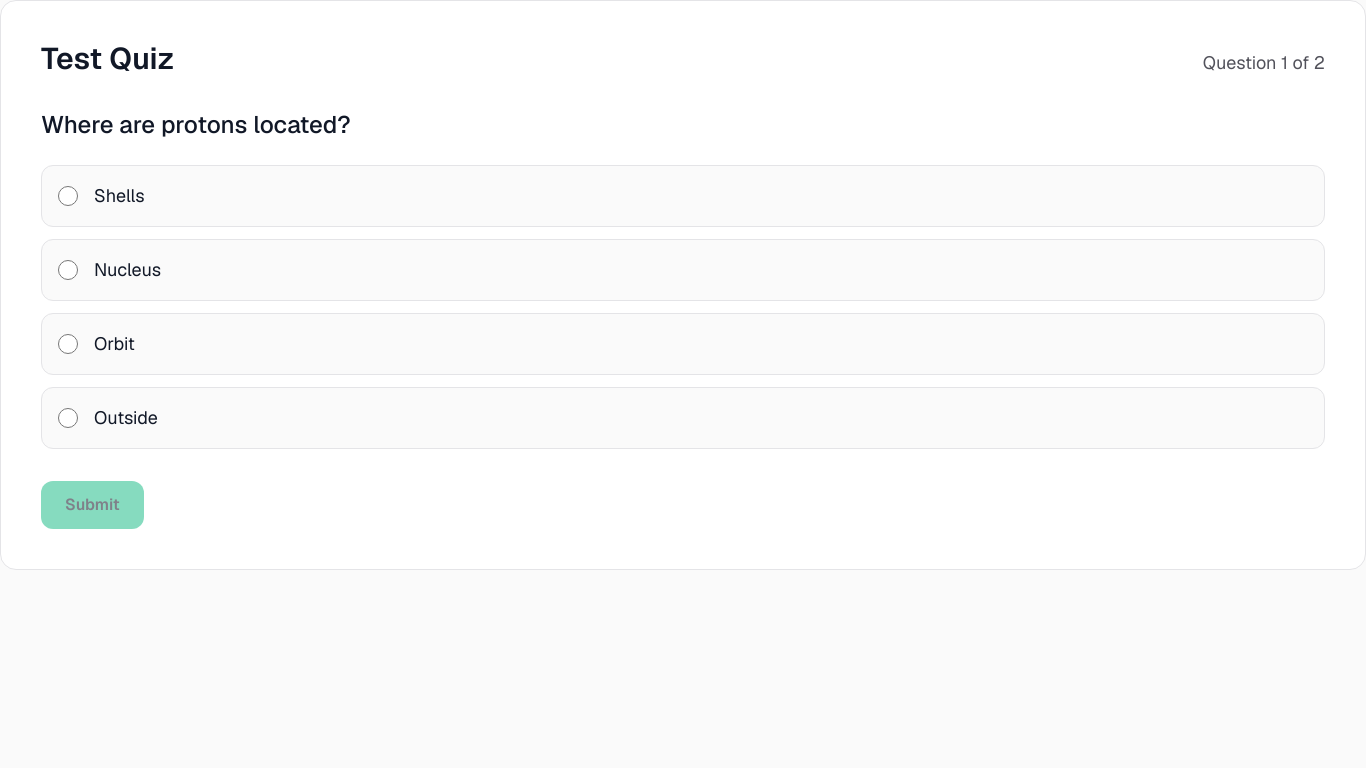
it: QuizShell › shows a retry action when saving the final result fails
Click the radio button labelled "Nucleus" at (68, 270), box [58, 260, 78, 280]
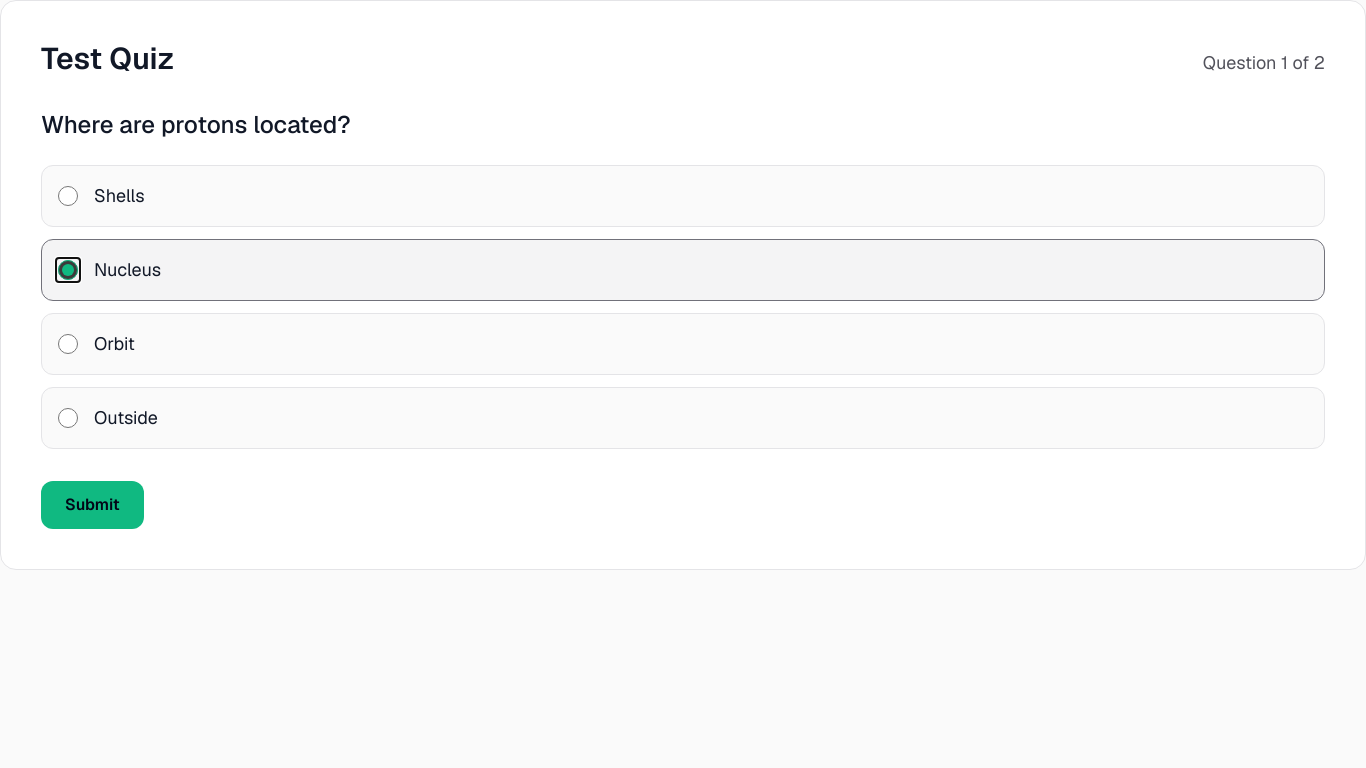
Click the button "Submit" at (92, 505), box [41, 481, 144, 529]
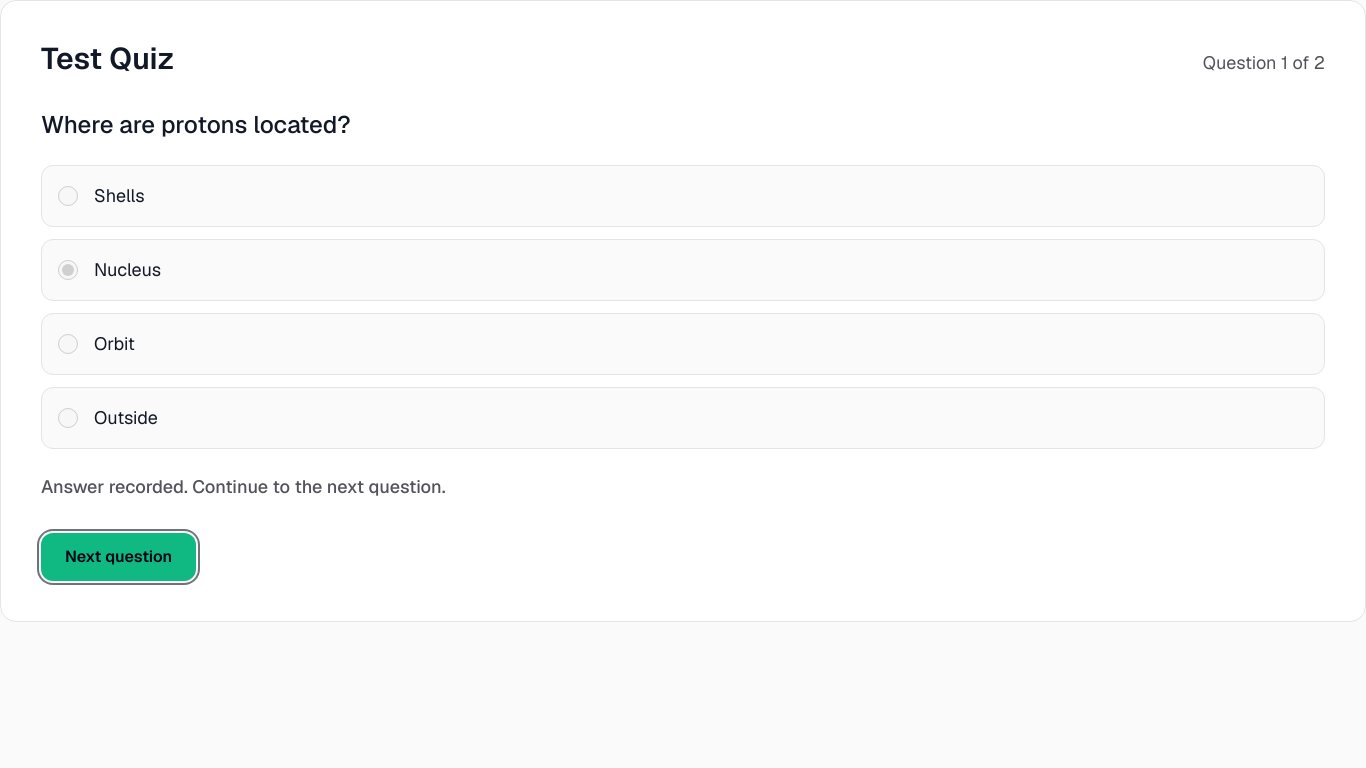
Click the button "Next question" at (119, 557), box [41, 533, 196, 581]
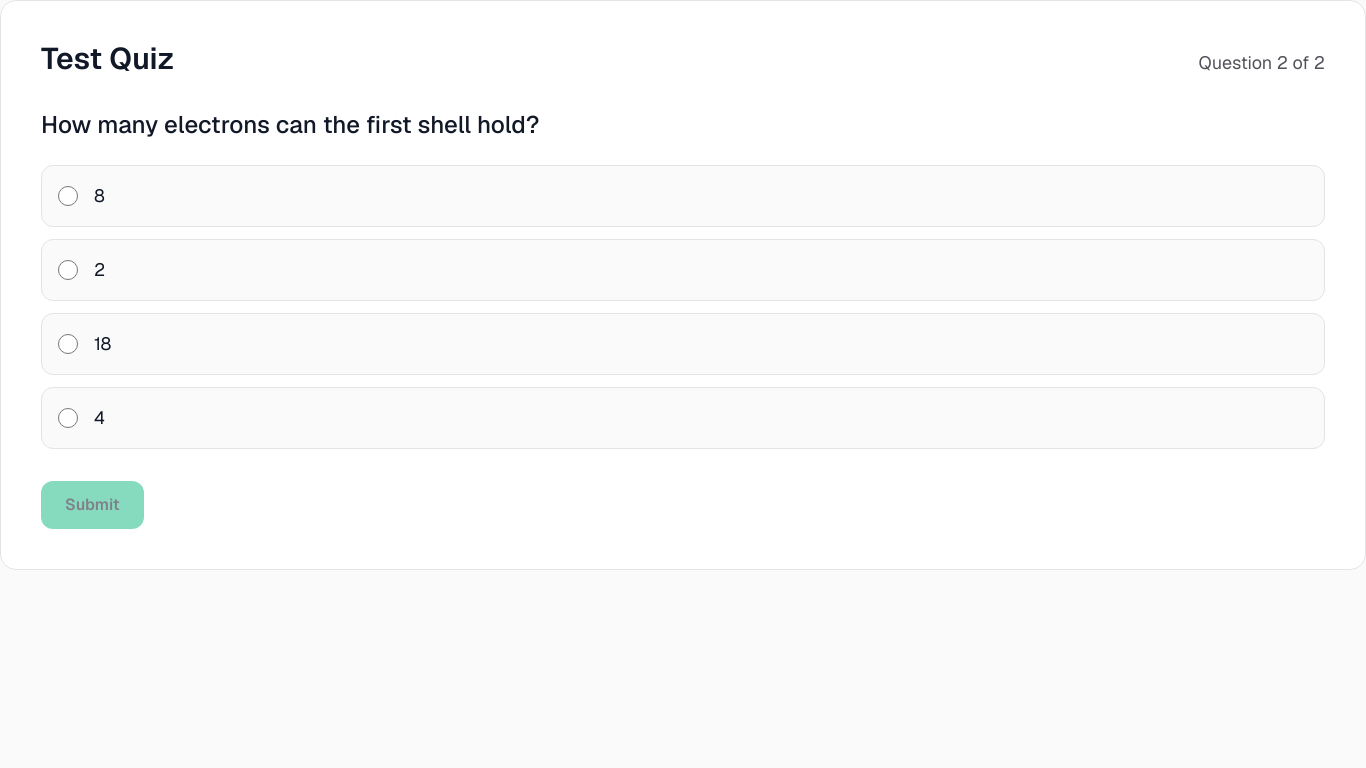
Click the radio button labelled "2" at (68, 270), box [58, 260, 78, 280]
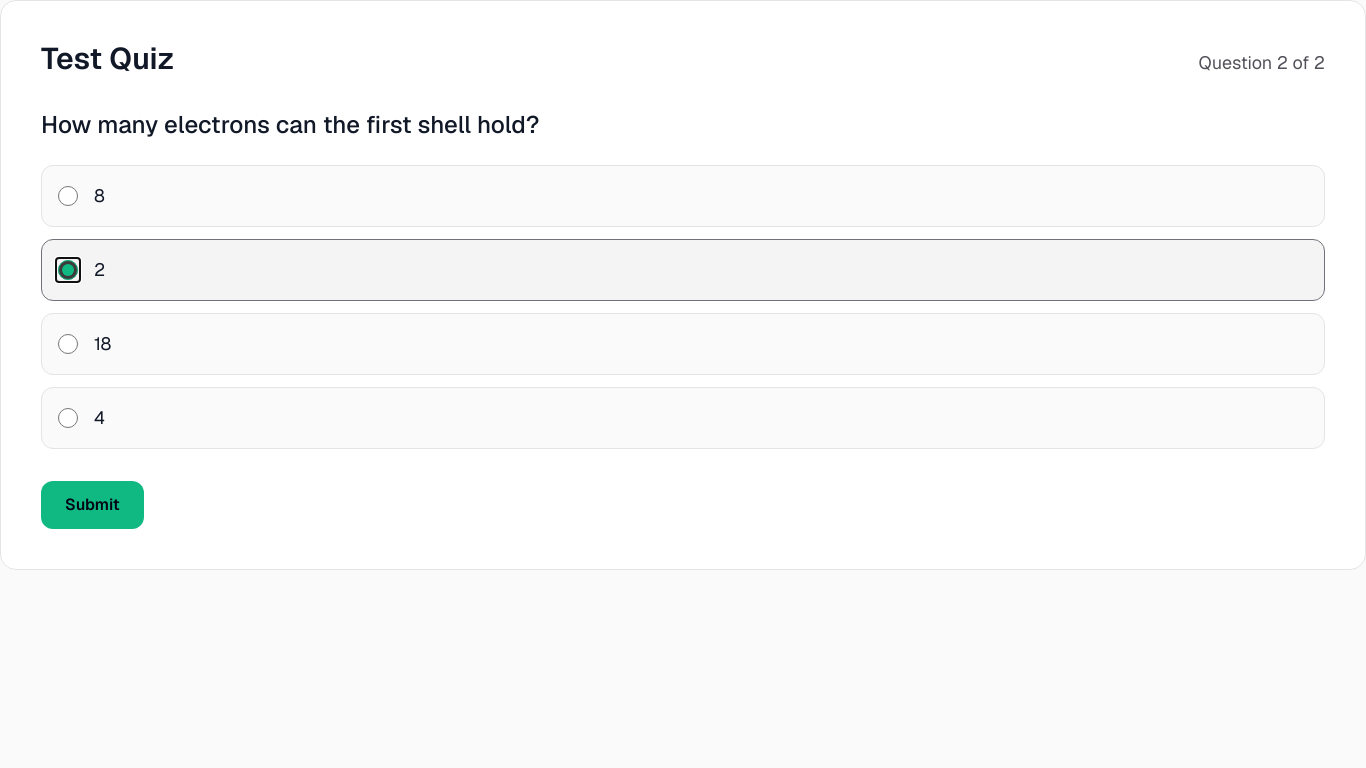
Click the button "Submit" at (92, 505), box [41, 481, 144, 529]
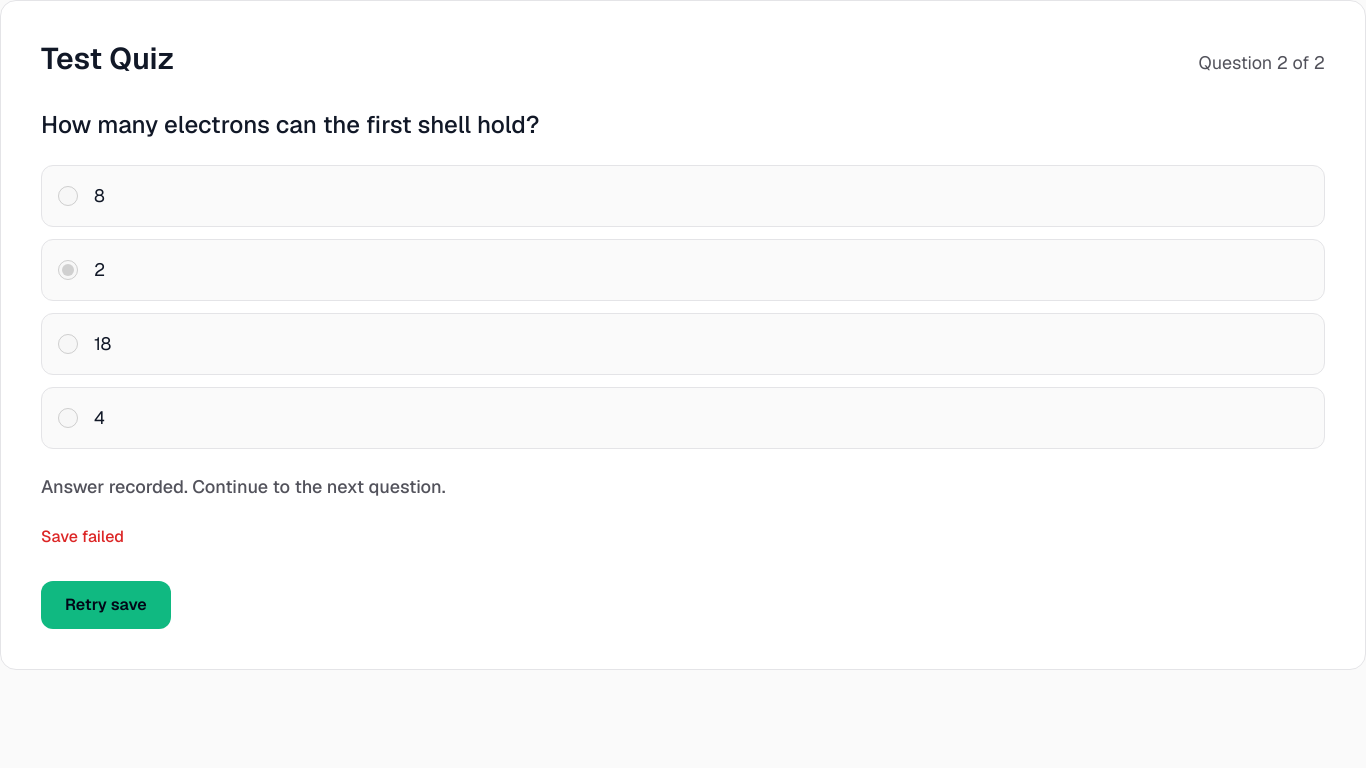
expect the button "Retry save" is enabled: met, box [41, 581, 171, 629]
expect the message "Save failed" is shown: met, box [41, 526, 124, 547]
